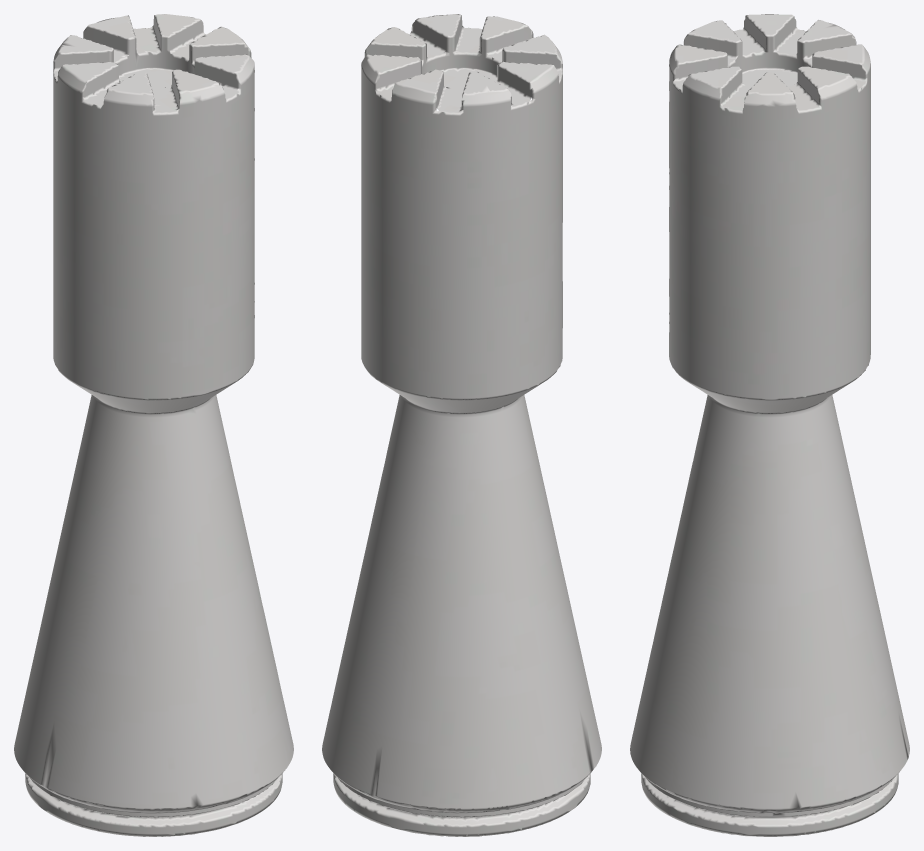
File: king-white-hd.glb
The picture shows the model from 3 angles, left to right: view 1: azimuth 30°, elevation 25°; view 2: azimuth 150°, elevation 25°; view 3: azimuth 270°, elevation 25°; orthographic projection.
Visible parts, largest first — view 1: 01_kral_bila; view 2: 01_kral_bila; view 3: 01_kral_bila.
Part boxes in pixels (left/top/right/bottom): 01_kral_bila: left=14, top=14, right=293, bottom=836; 01_kral_bila: left=322, top=14, right=601, bottom=836; 01_kral_bila: left=630, top=14, right=909, bottom=836.
Bounding box in the file's own units: 0.5731 × 1.65 × 0.5731.
1 material, 1 textured.
